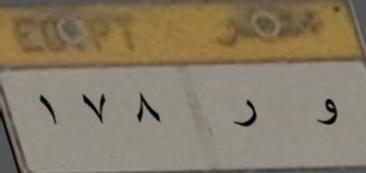1: (36, 88, 62, 133)
7: (81, 86, 110, 130)
8: (132, 88, 166, 130)
raa: (227, 92, 264, 140)
waw: (310, 94, 348, 135)
